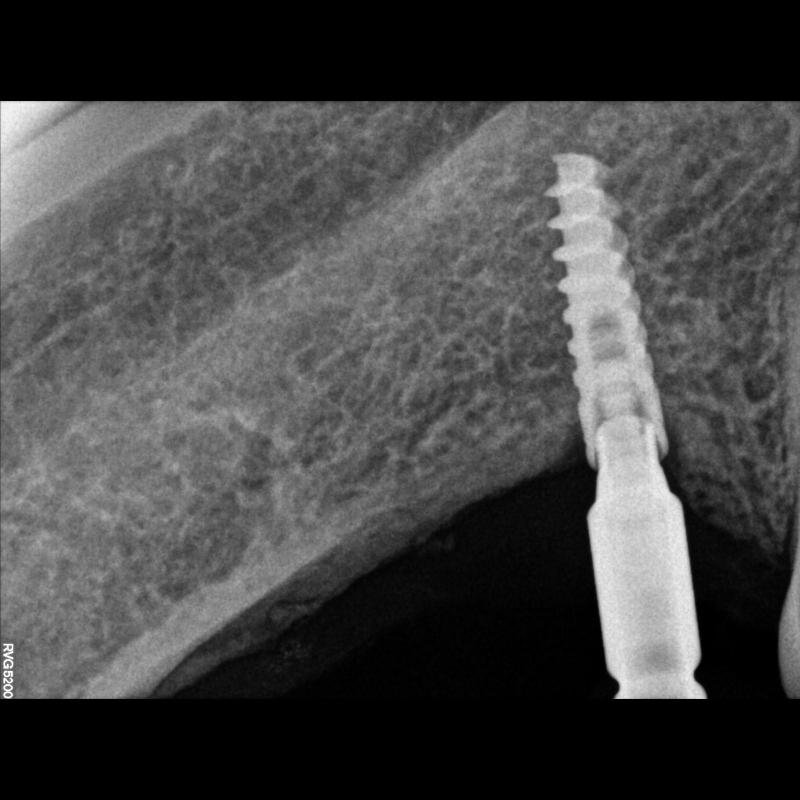ADIN: (530, 148, 684, 464)
